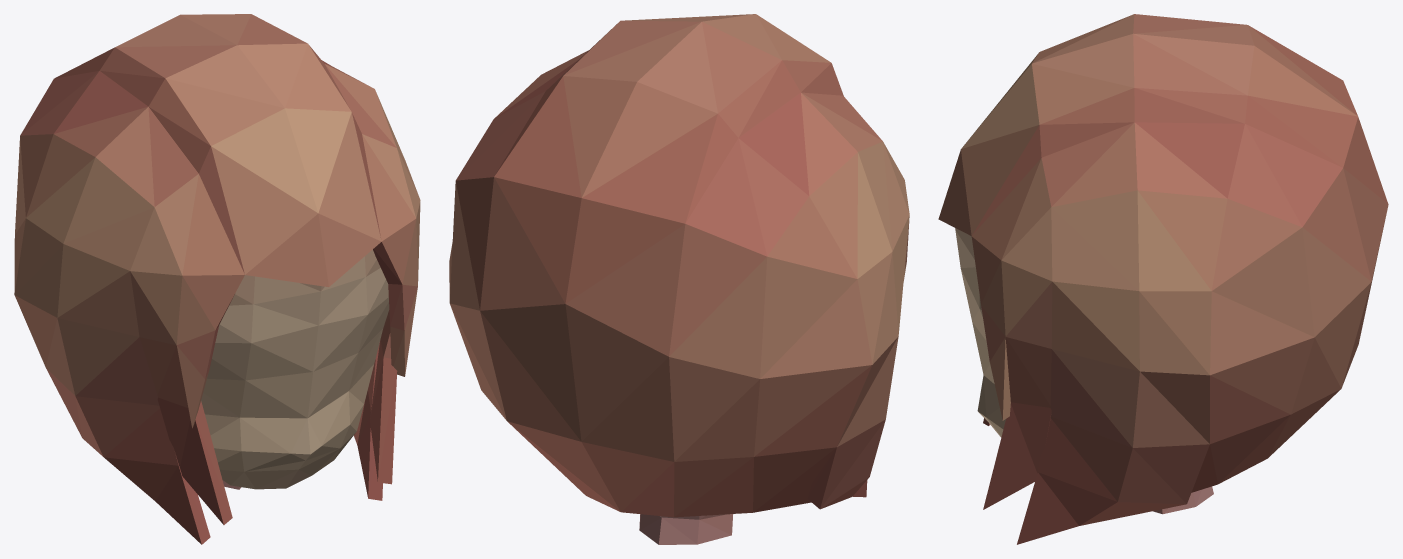
File: helm_lightskin_bob_blonde.fbx
The picture shows the model from 3 angles, left to right: view 1: azimuth 30°, elevation 25°; view 2: azimuth 150°, elevation 25°; view 3: azimuth 270°, elevation 25°; orthographic projection. The views are drawn at different scales.
Parts seen in each view (by area): view 1: helm_lightskin_bob_blonde; view 2: helm_lightskin_bob_blonde; view 3: helm_lightskin_bob_blonde.
Part boxes in pixels (x1,y1,x2,y2): helm_lightskin_bob_blonde: [14, 14, 420, 544]; helm_lightskin_bob_blonde: [449, 14, 909, 544]; helm_lightskin_bob_blonde: [938, 14, 1388, 544].
Size of the model in its own units: 1.18 by 1.34 by 1.16.
